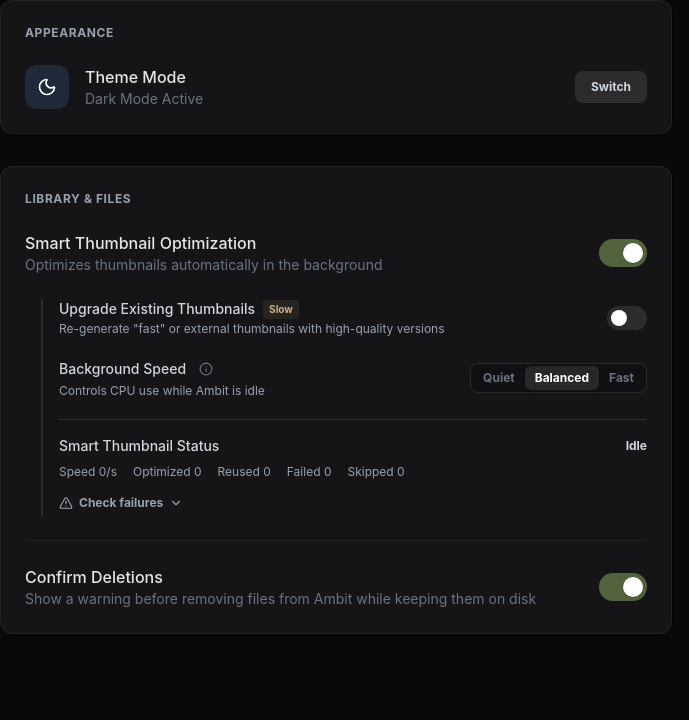
Test: GeneralTab Smart Thumbnail details › shows load errors, retries loading after reopening, and formats unknown failure fields
The image size is (689, 720).
Step 1. Click the button "Check failures" → (121, 503), box left=59, top=495, right=183, bottom=511
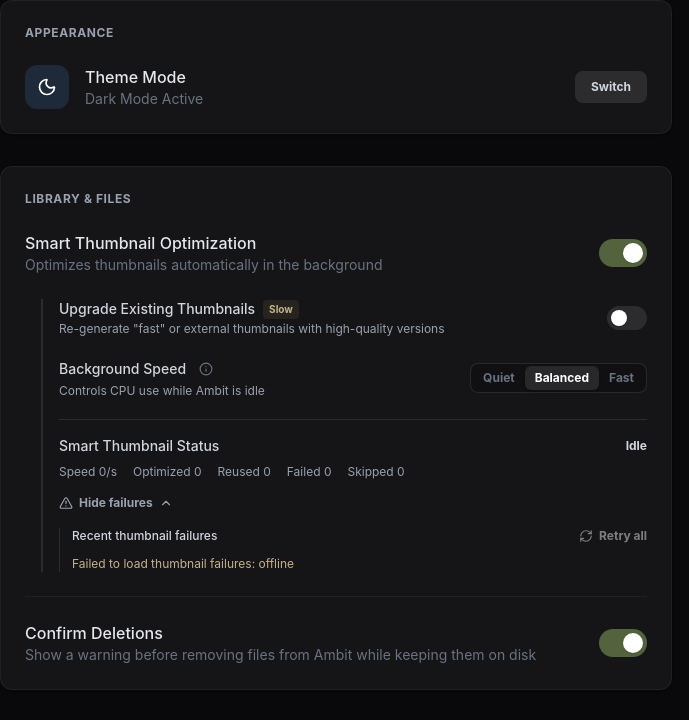
Check: the text "Failed to load thumbnail failures: offline" is shown, box left=72, top=556, right=294, bottom=571
Step 2. Click the button "Hide failures" → (116, 503), box left=59, top=495, right=173, bottom=511
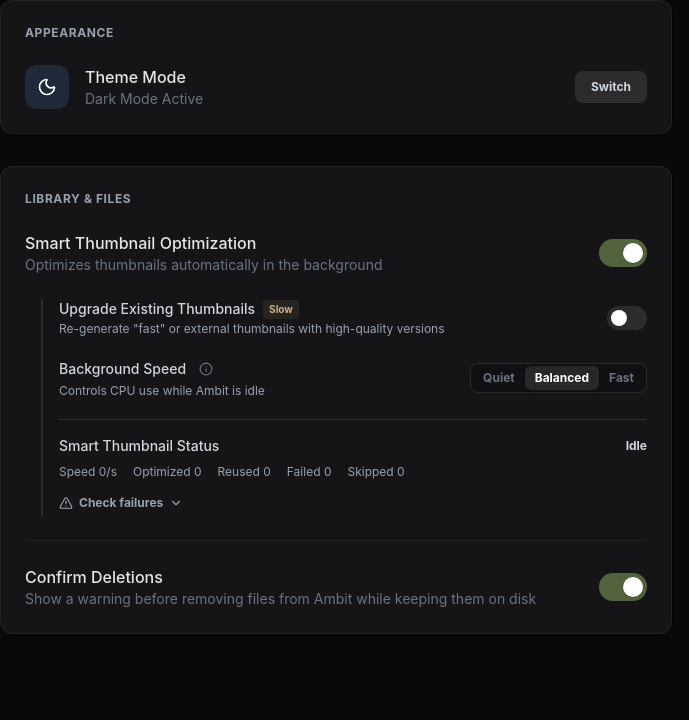
Step 3. Click the button "Check failures" → (121, 503), box left=59, top=495, right=183, bottom=511
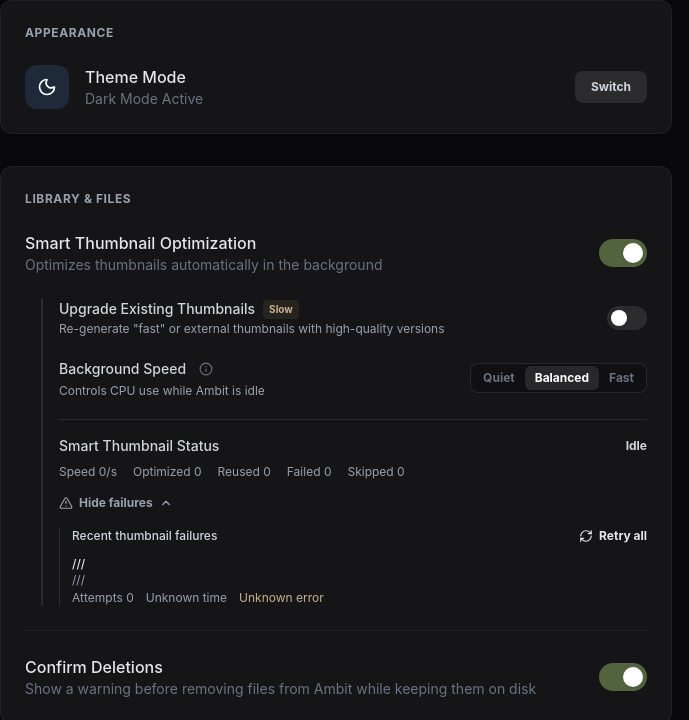
Check: the text "Unknown time" is shown, box left=146, top=590, right=227, bottom=606
Check: the text "Unknown error" is shown, box left=239, top=590, right=324, bottom=606
Check: the 1st text titled "///" is shown, box left=72, top=556, right=85, bottom=571
